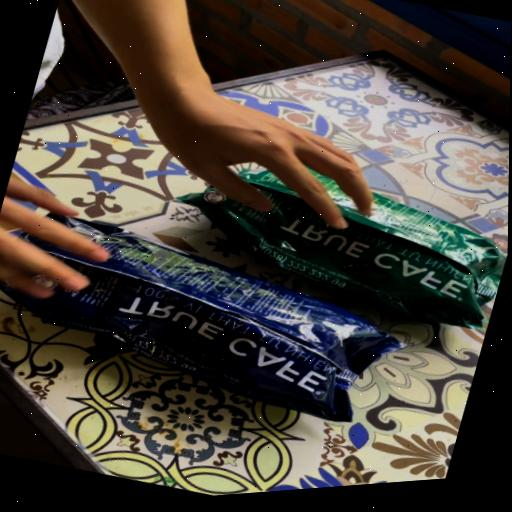cafe_hat: (0, 213, 404, 421)
cafe_xay: (181, 167, 506, 329)
